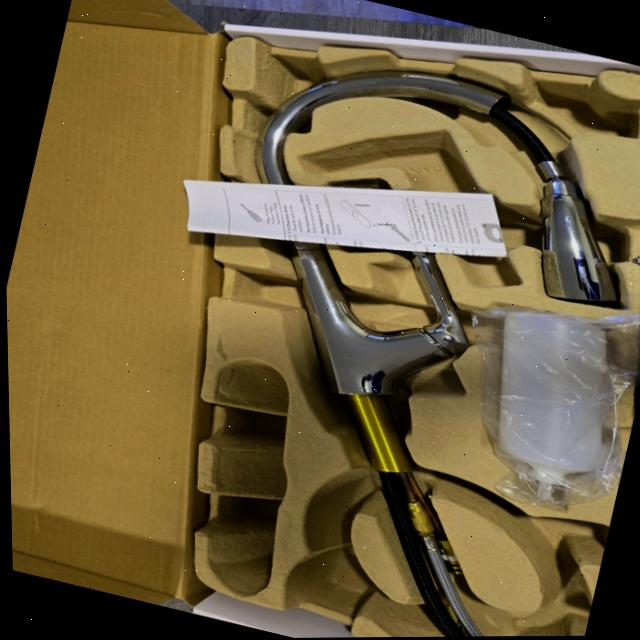1o: (256, 67, 615, 637)
2m: (298, 130, 520, 284)
3: (495, 305, 607, 501)
4m: (208, 358, 287, 596)
5m: (299, 550, 366, 608)
6m: (508, 581, 590, 636)
7m: (475, 496, 608, 575)
8: (180, 177, 509, 257)
